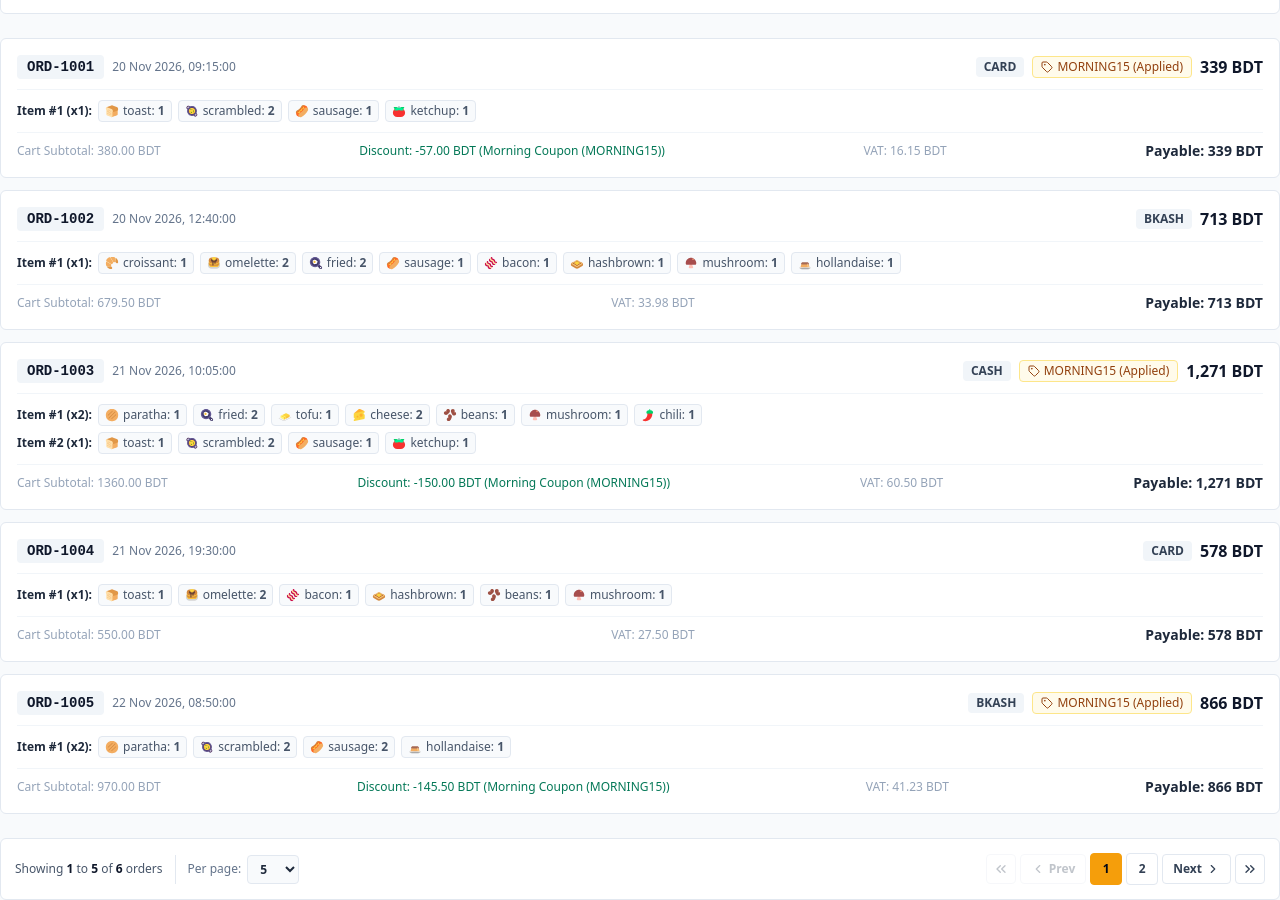
Test: Step 07: Checkout, Order Storage, and JSON Export (TC-16, TC-17, D6) › updates items per page when page size selector changes
(page scrolled)
Expected: the element with test id "pagination-info" reads "Showing 1 to 5 of 6 orders", [15,861,162,877]
Note: Change page size to 10
Select "10" in the dropdown with test id "page-size-select" at point(273, 869), box [247,854,299,884]
(page scrolled)
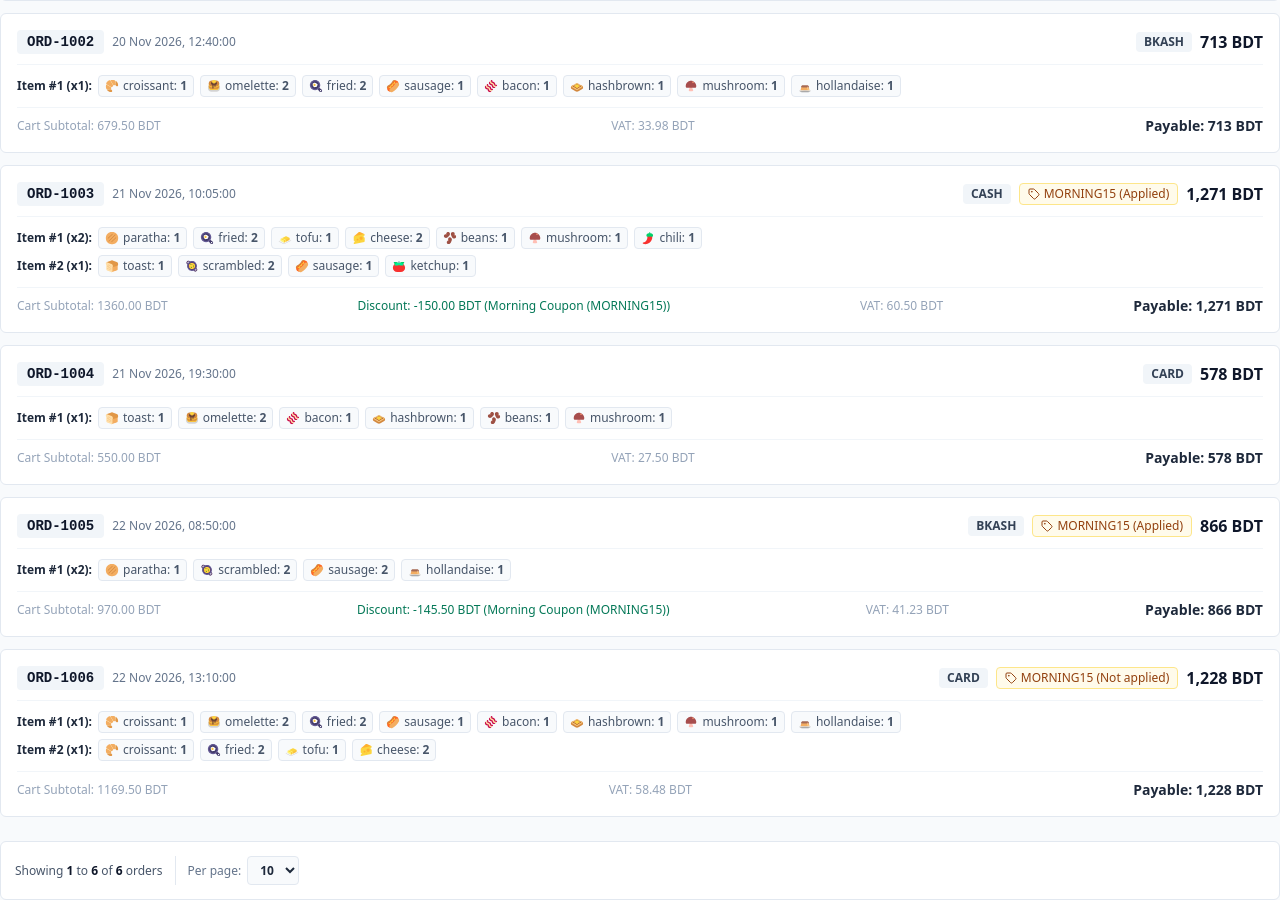
Now the element with test id "pagination-info" reads "Showing 1 to 6 of 6 orders", box [15,862,162,878]
Now the button with test id "pagination-next" is gone
